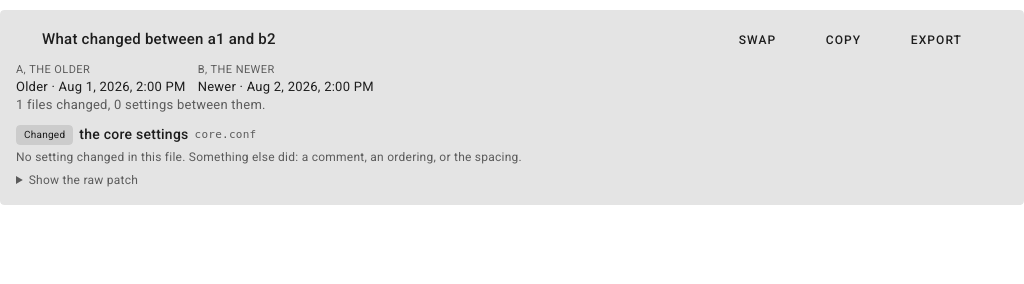
Test: the export menu › carries its own search field, filtering the four formats down as it is typed
Click the button "Export" at x=927, y=40, box [879,26,974,54]
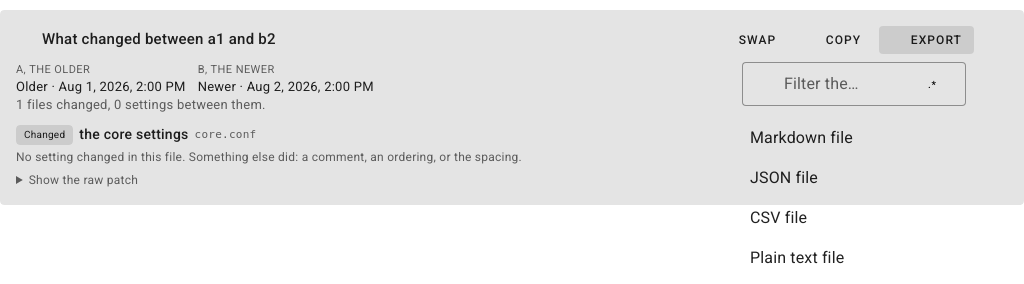
expect the text "Markdown file" is shown: met, box [750,128,853,147]
expect the text "JSON file" is shown: met, box [750,168,818,187]
expect the text "CSV file" is shown: met, box [750,208,807,227]
Type "json" into the search field labelled "Filter these commands" at x=822, y=82, box [778,62,866,102]
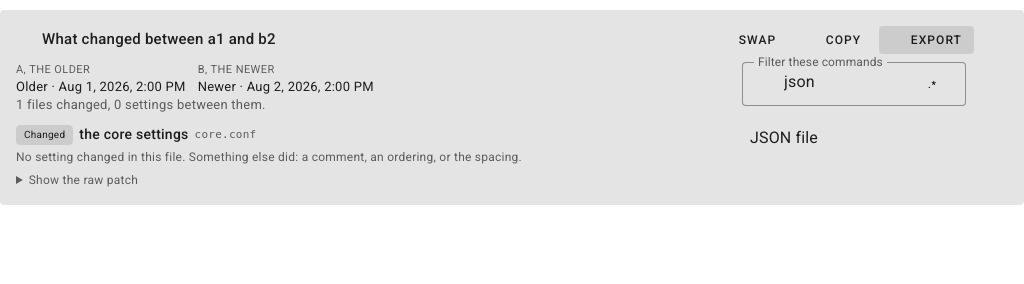
expect the text "JSON file" is shown: met, box [750,128,818,147]
expect the text "Markdown file" is gone: met
expect the text "Plain text file" is gone: met
